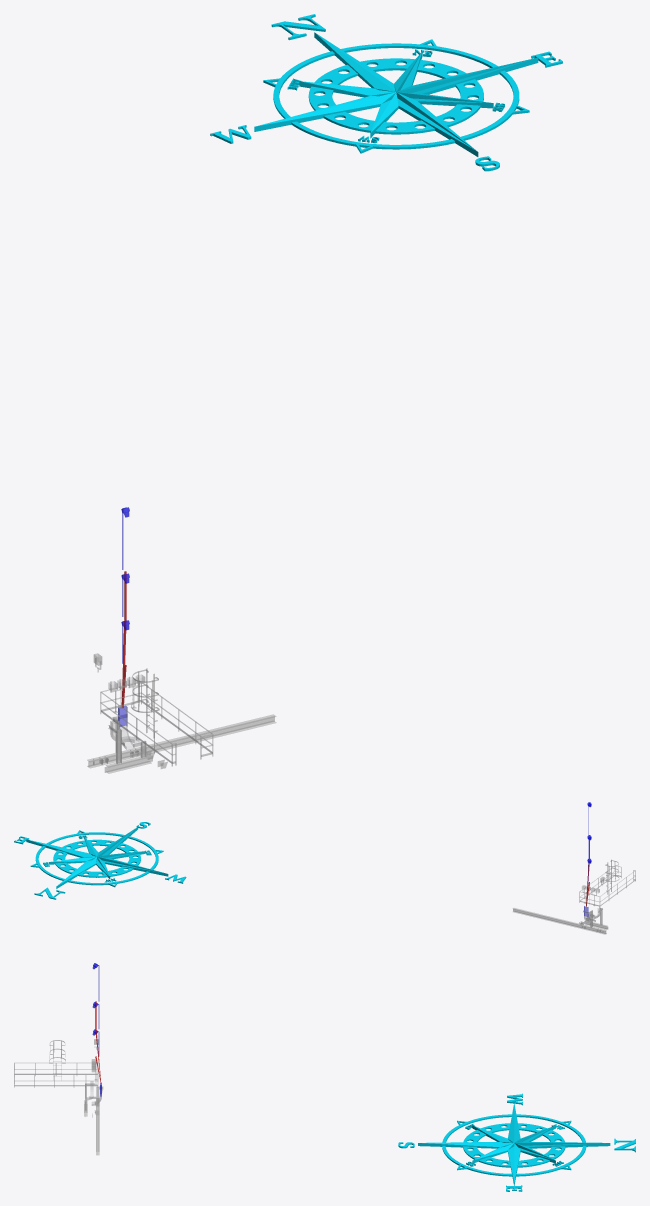
File: mini_model.glb
The picture shows the model from 3 angles, top to bottom: view 1: azimuth 30°, elevation 25°; view 2: azimuth 150°, elevation 25°; view 3: azimuth 270°, elevation 25°; orthographic projection. The views are drawn at different scales.
Visible parts, largest first — view 1: Compass, IfcBuildingElementProxy/None.32845, IfcBuildingElementProxy/None.32854; view 2: Compass, IfcBuildingElementProxy/None.32845, IfcBuildingElementProxy/None.32854, IfcBuildingElementProxy/None.32852; view 3: Compass, IfcBuildingElementProxy/None.32854.
Boxes of the visible parts, x1=… form: Compass: x1=210, y1=14, x2=562, y2=171; IfcBuildingElementProxy/None.32845: x1=87, y1=714, x2=276, y2=768; IfcBuildingElementProxy/None.32854: x1=100, y1=682, x2=213, y2=766; Compass: x1=14, y1=822, x2=186, y2=899; IfcBuildingElementProxy/None.32845: x1=512, y1=908, x2=606, y2=934; IfcBuildingElementProxy/None.32854: x1=579, y1=865, x2=635, y2=907; IfcBuildingElementProxy/None.32852: x1=605, y1=859, x2=619, y2=894; Compass: x1=398, y1=1093, x2=635, y2=1191; IfcBuildingElementProxy/None.32854: x1=14, y1=1062, x2=98, y2=1087.
Bounding box in the file's own units: 40.58 × 11.94 × 45.29.
